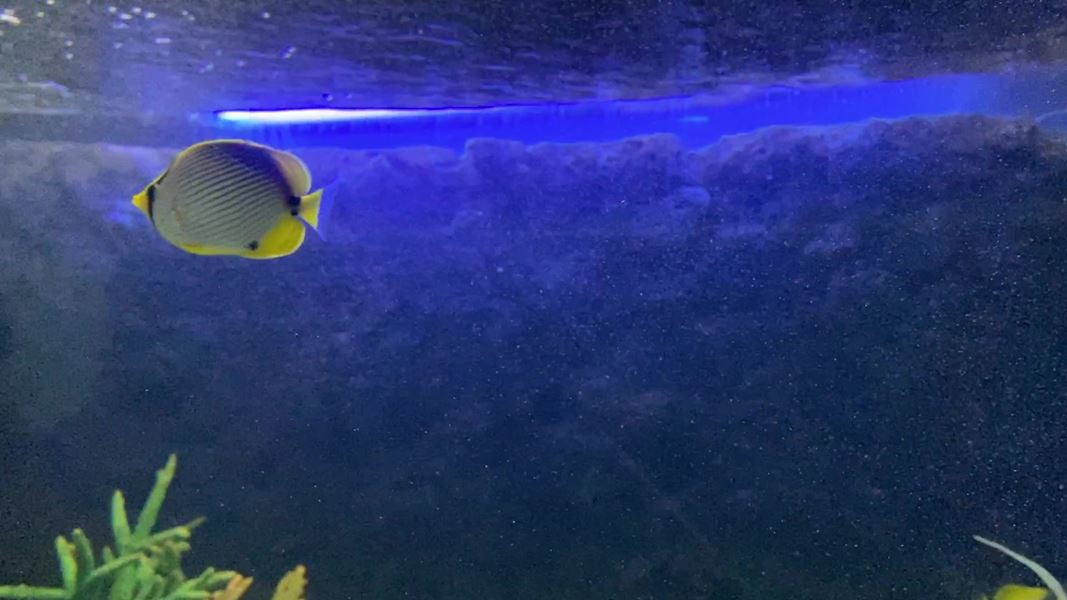Black-backed butterflyfish: (125, 132, 349, 273)
